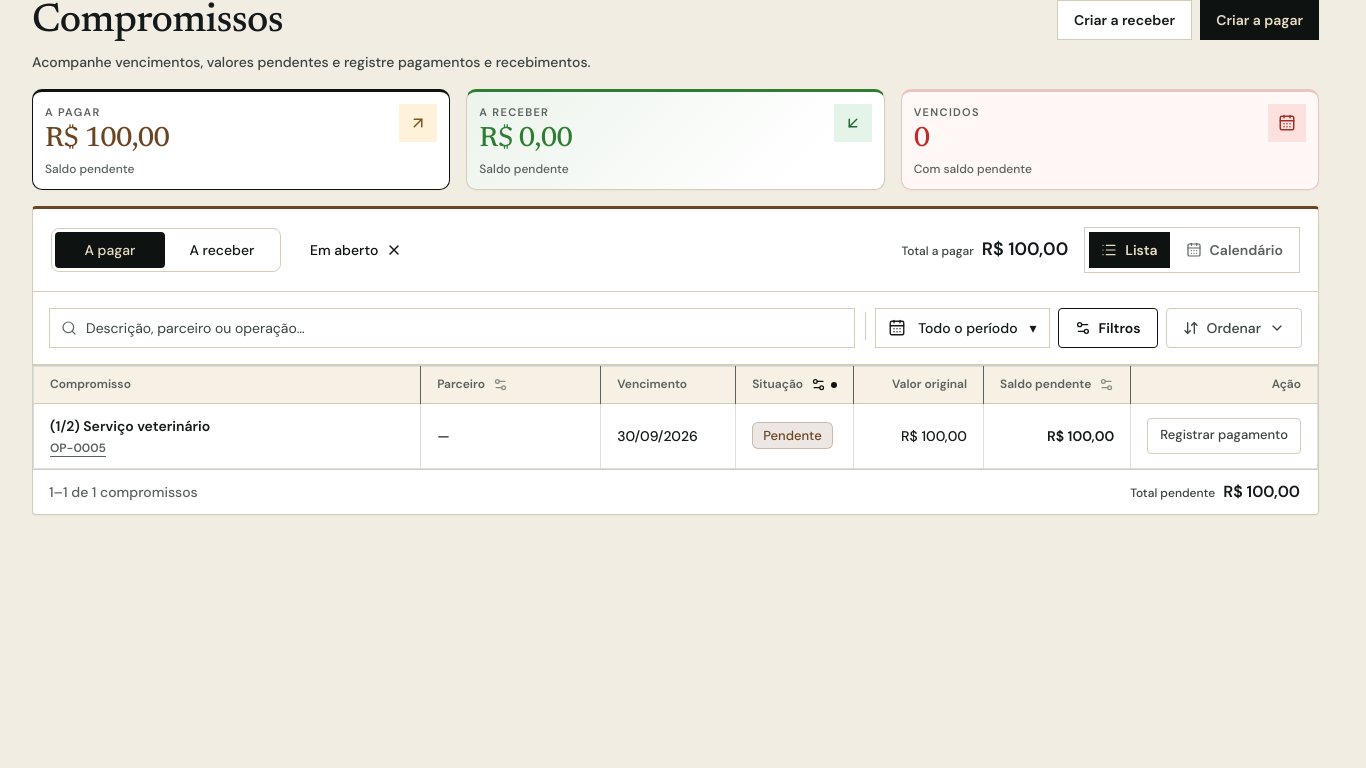
Test: CompromissosFinanceiros — criação › não oferece conta inativa ao liquidar um compromisso
Expected: the text "(1/2) Serviço veterinário" is shown, [50,416,210,434]
Click the button "Registrar pagamento" at (1224,436), box [1147,418,1301,454]
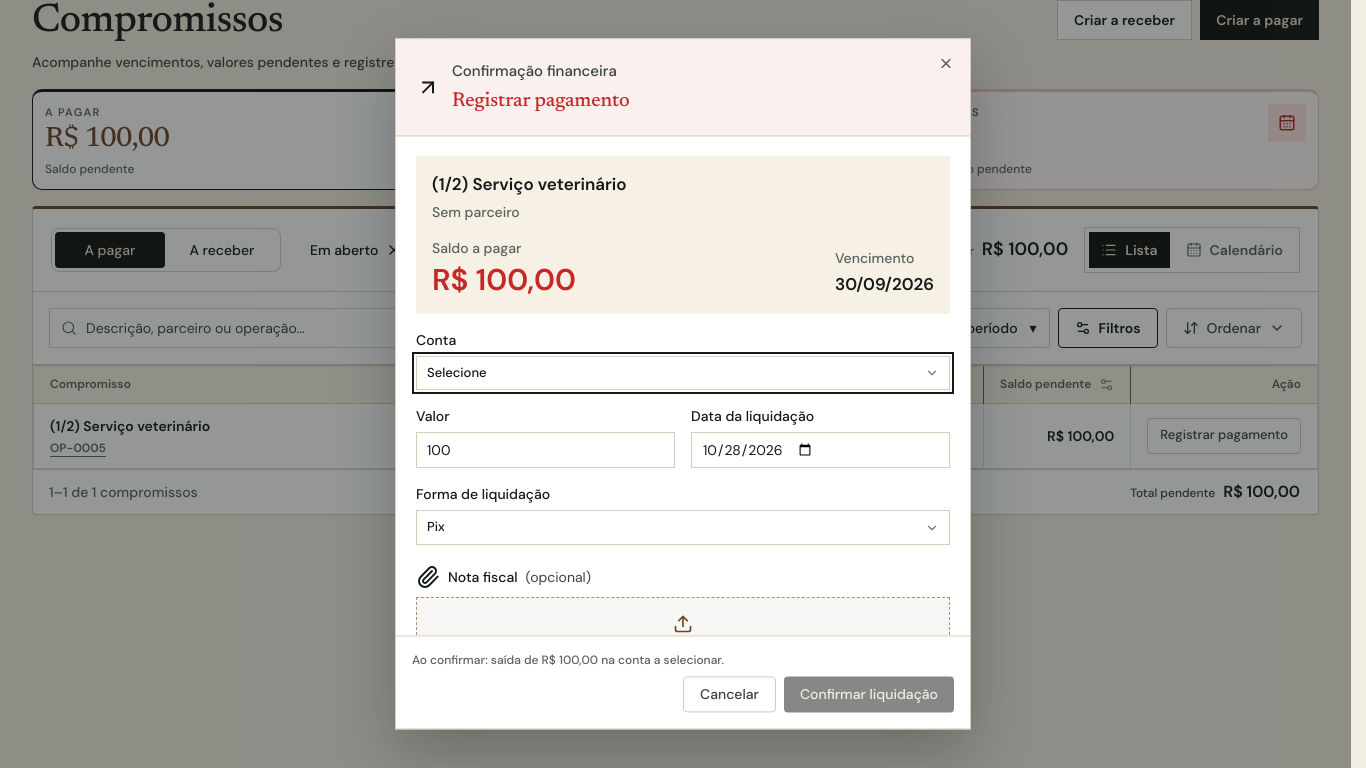
Press Enter in the dropdown named "Conta", box [416,356,950,391]
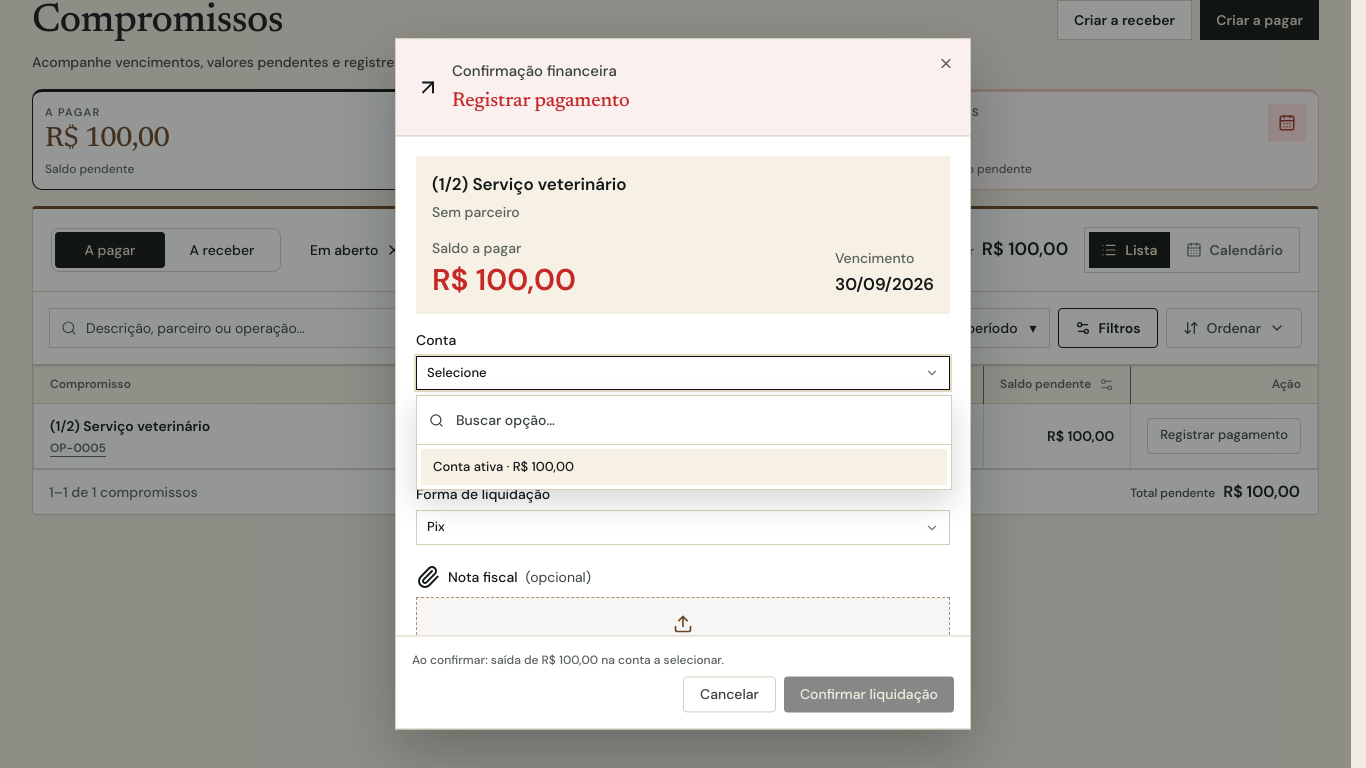
Result: the option "Conta ativa · R$ 100,00" is shown at [421,449,947,484]
